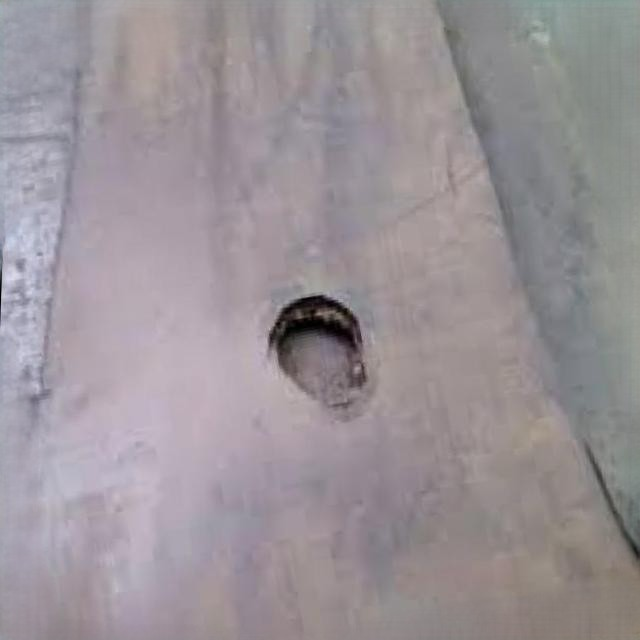Hole: (260, 289, 380, 423)
